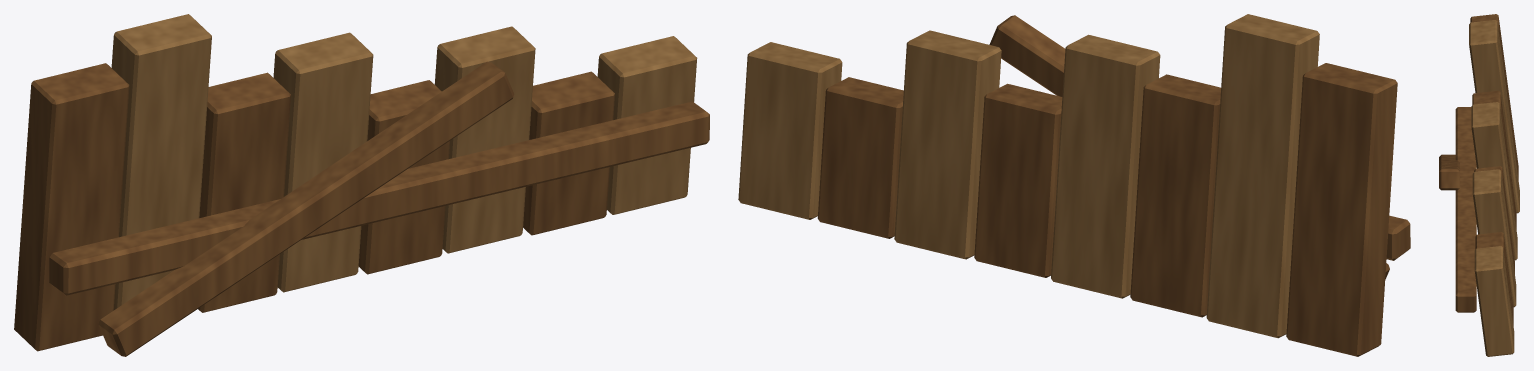
File: hunter_broken_wall.glb
3 renders of one model, left to right at view 1: azimuth 30°, elevation 25°; view 2: azimuth 150°, elevation 25°; view 3: azimuth 270°, elevation 25°, orthographic. The views are drawn at different scales.
Parts seen in each view (by area): view 1: hunter_broken_wall_Mesh; view 2: hunter_broken_wall_Mesh; view 3: hunter_broken_wall_Mesh.
Part boxes in pixels (<box>): hunter_broken_wall_Mesh: <box>14,14,709,356</box>; hunter_broken_wall_Mesh: <box>738,14,1410,356</box>; hunter_broken_wall_Mesh: <box>1439,14,1519,356</box>.
Size of the model in its own units: 2.95 by 1.29 by 0.5395.
Materials: 1 (1 with a texture image).
